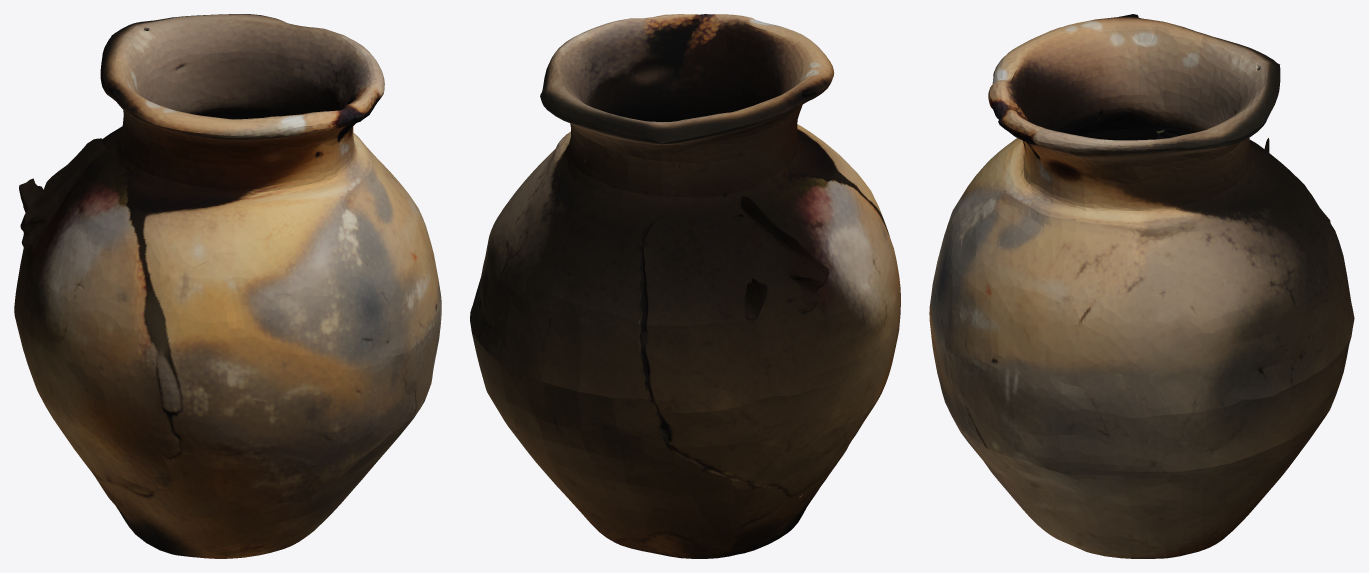
Rendered from qum.glb.
3 views of the same model, side by side, from view 1: azimuth 30°, elevation 25°; view 2: azimuth 150°, elevation 25°; view 3: azimuth 270°, elevation 25° (orthographic).
Visible parts, largest first — view 1: world; view 2: world; view 3: world.
Boxes of the visible parts, x1,y1,x2,y2 form: world: (14, 14, 441, 558); world: (470, 14, 900, 558); world: (929, 14, 1354, 558).
Size of the model in its own units: 0.5971 by 0.6986 by 0.5961.
Materials: 1 (1 with a texture image).
